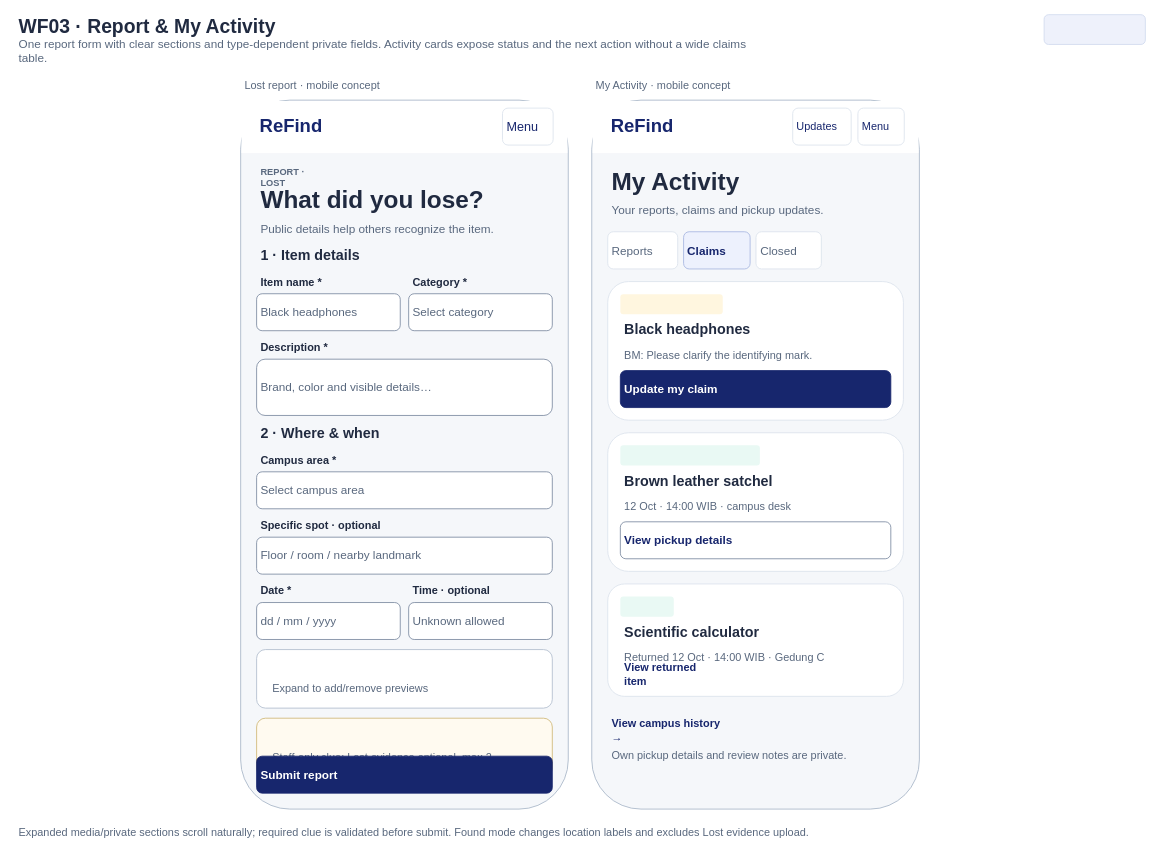
Image size: 1160x854. Some labels were removed from this diagram. Each missing label, with the centre of its shape:
"Approved · pickup scheduled" belongs at point (689, 455).
"CONCEPT / UX01" belongs at point (1094, 29).
"More info requested" belongs at point (671, 304).
"Returned" belongs at point (646, 606).
